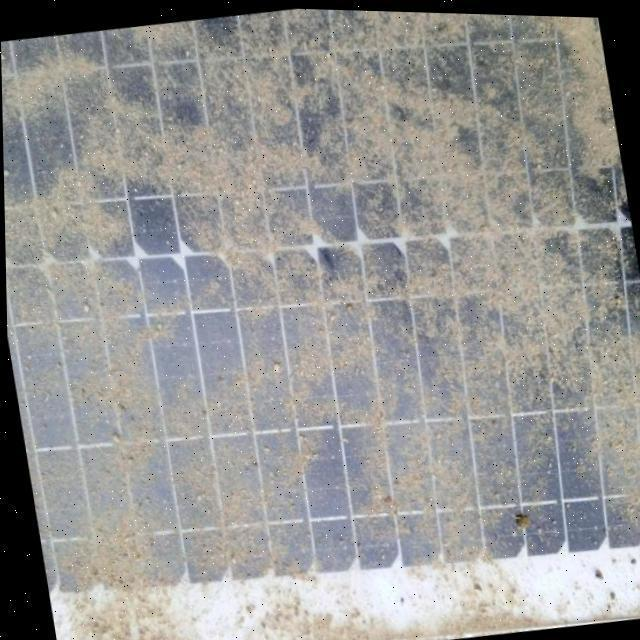Anomaly Solar Panel: (0, 0, 640, 640)
Surface Contaminant: (1, 7, 640, 640)
